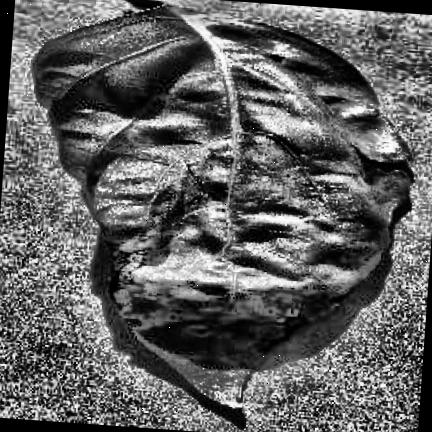leaf: (34, 0, 413, 407)
